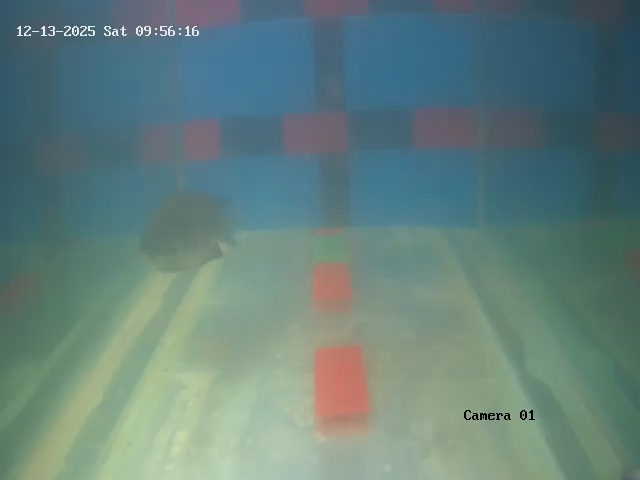fish: (124, 185, 242, 277)
